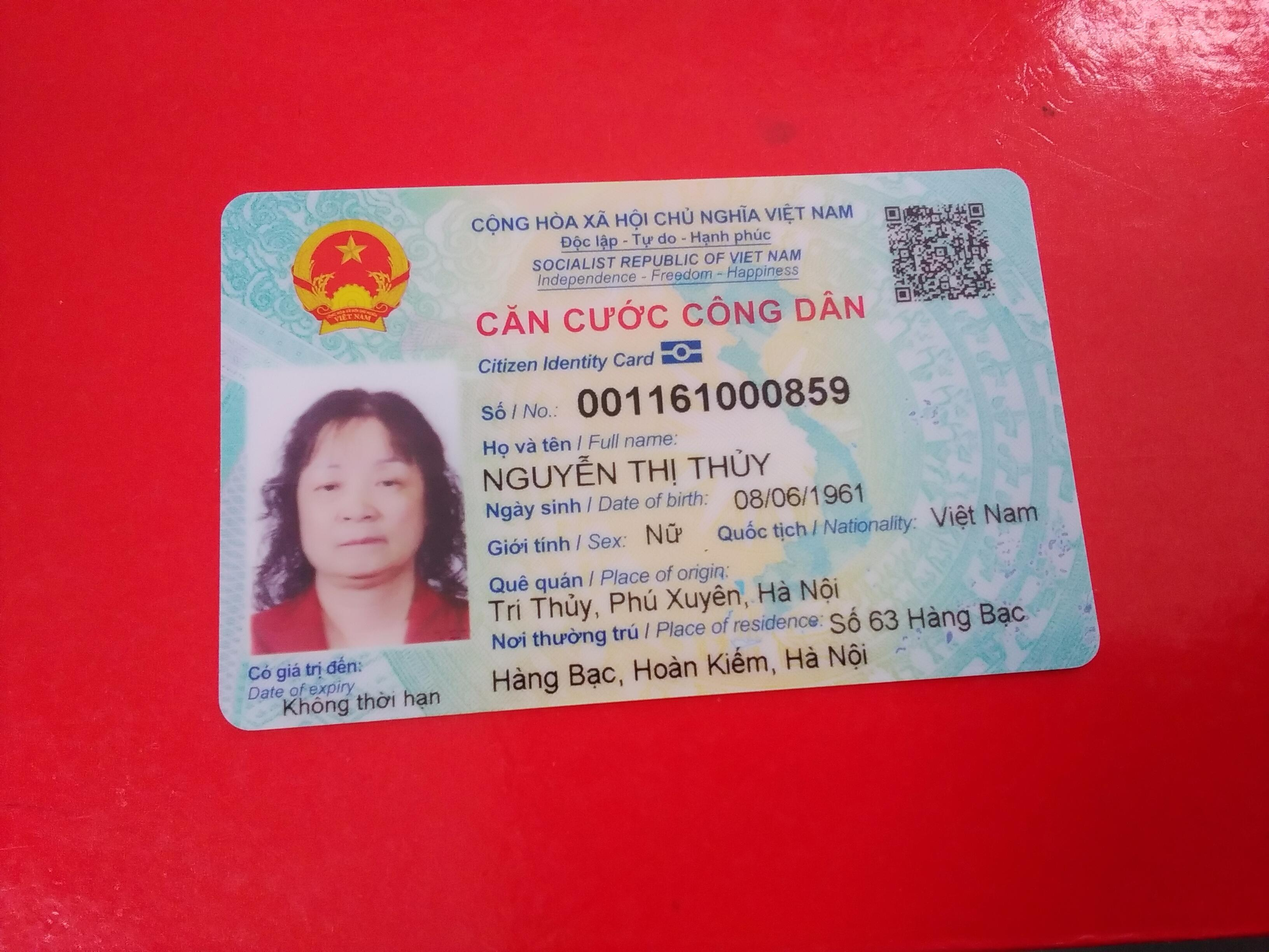ID: (572, 374, 881, 421)
birth: (725, 469, 872, 521)
name: (470, 441, 781, 502)
place: (480, 566, 850, 633)
residence: (480, 637, 889, 707), (822, 587, 1035, 643)
